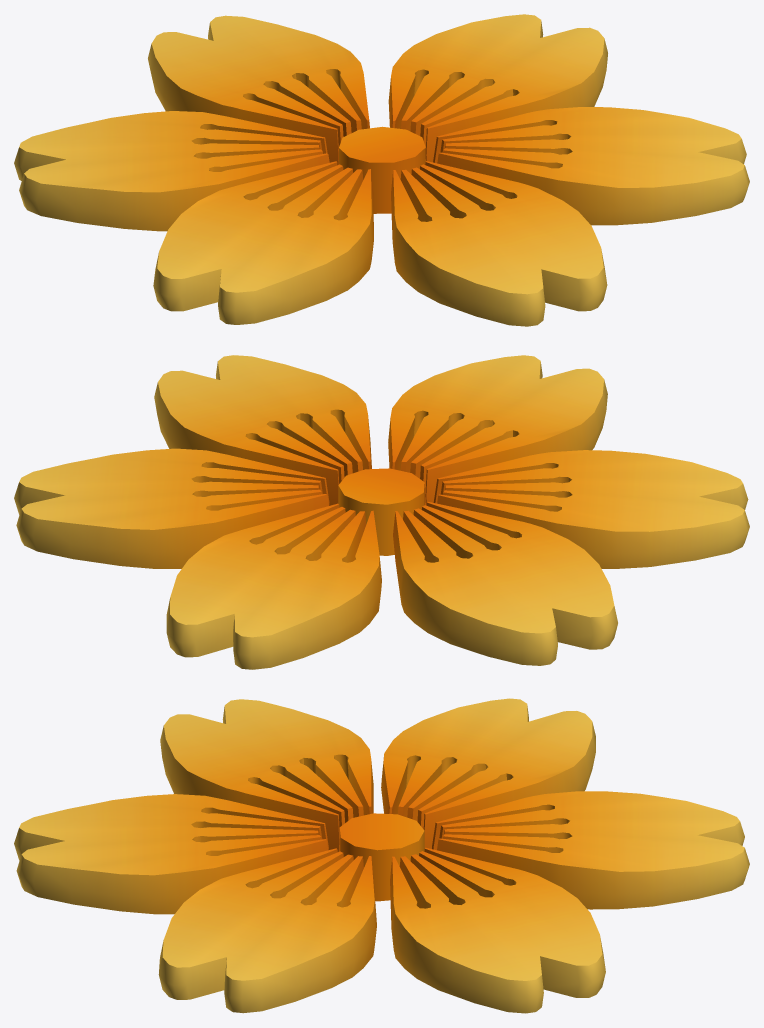
The model's file is Center yellow.fbx.
3 views of the same model, one above another, from view 1: azimuth 30°, elevation 25°; view 2: azimuth 150°, elevation 25°; view 3: azimuth 270°, elevation 25° (orthographic).
Visible parts, largest first — view 1: Cylinder004.005; view 2: Cylinder004.005; view 3: Cylinder004.005.
Boxes of the visible parts, x1,y1,x2,y2 form: Cylinder004.005: (14, 14, 749, 326); Cylinder004.005: (14, 355, 749, 669); Cylinder004.005: (14, 698, 749, 1013).
Size of the model in its own units: 29.68 by 2.47 by 32.19.
Materials: 1 (1 with a texture image).
